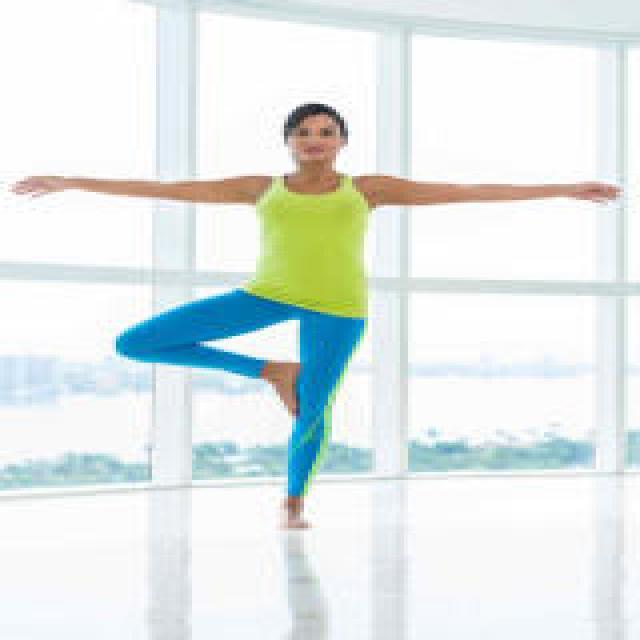yoga-pose tree: (36, 105, 594, 538)
